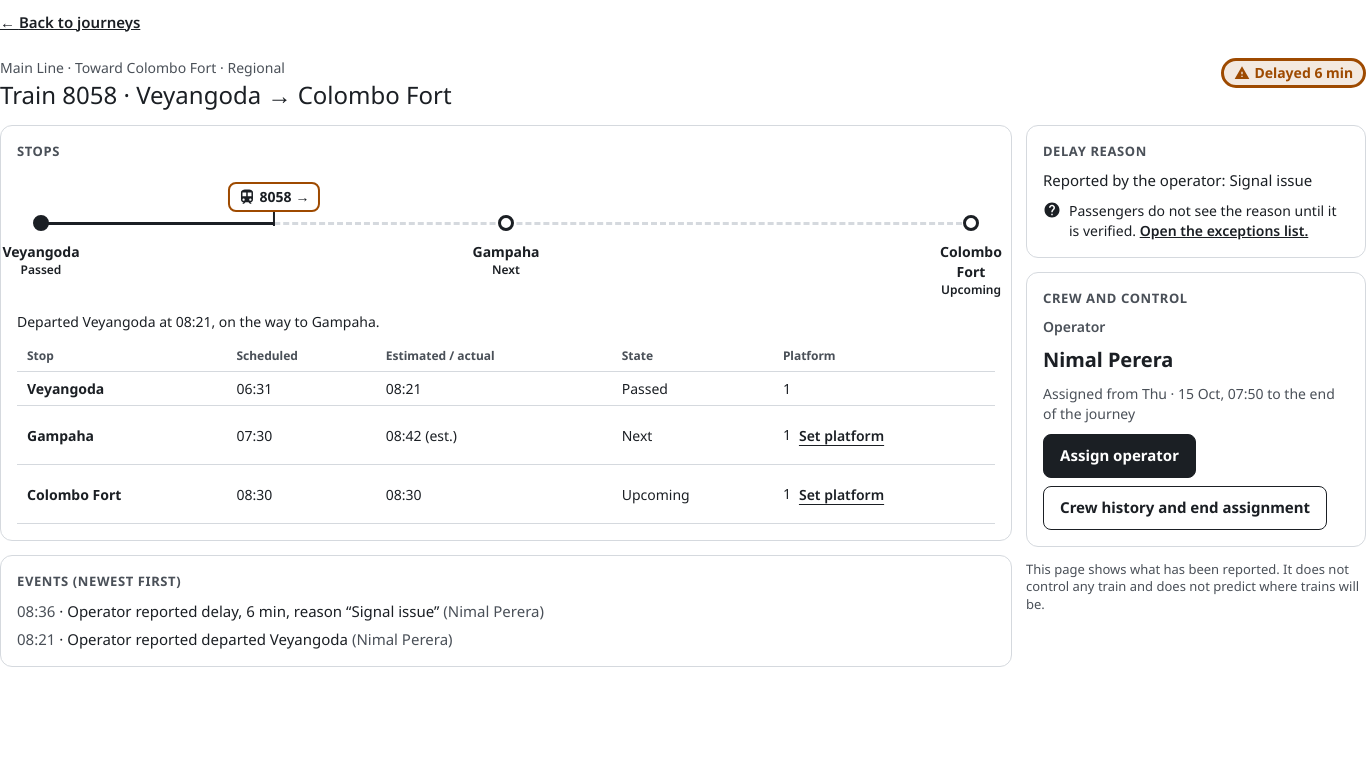
Test: Set the platform of a stop (spec 20, FR-57) › offers Set platform on stops the train has not left, and sends the chosen platform
Click the button with aria-label "Set the platform at Gampaha" at (842, 435), box [799,413,884,457]
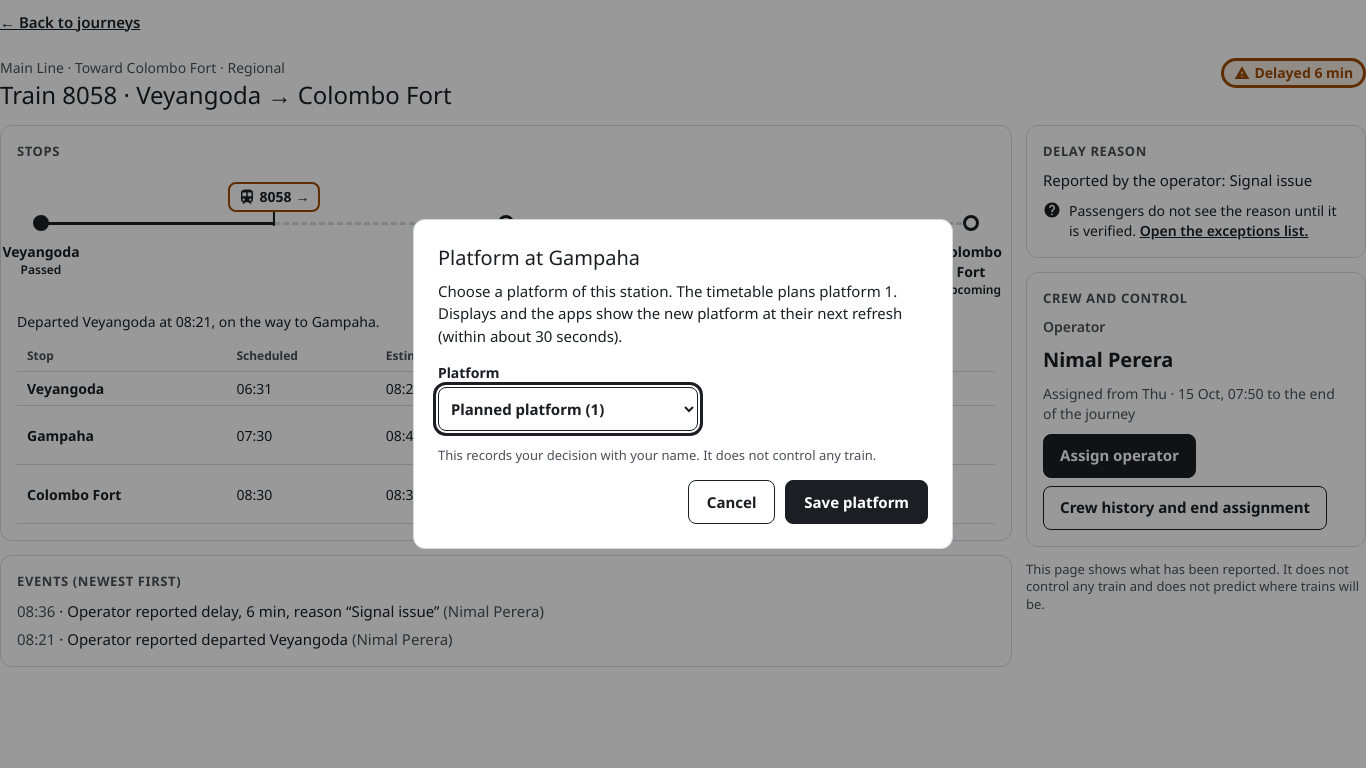
Select "Platform 2" in the dropdown labelled "Platform" at (568, 409), box [438,387,698,431]
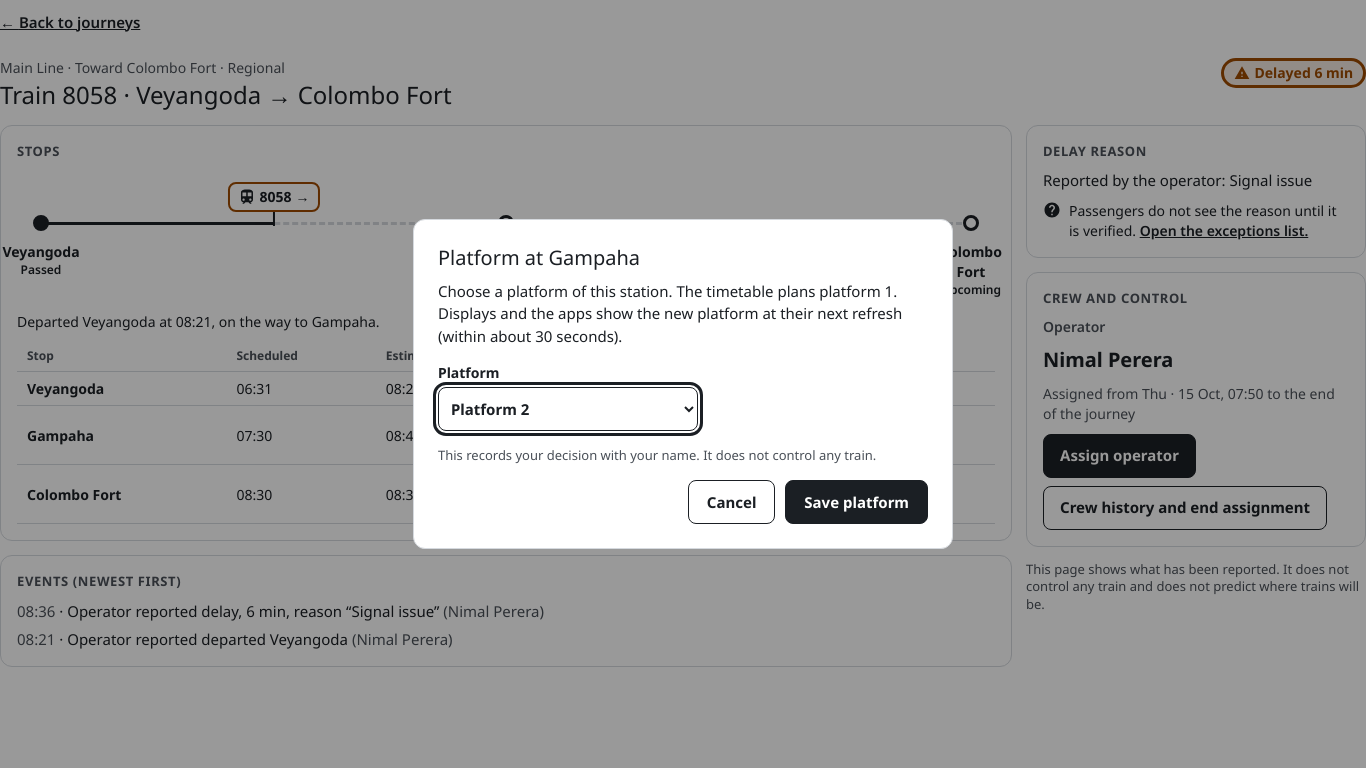
Click the button "Save platform" at (857, 502), box [785,480,928,524]
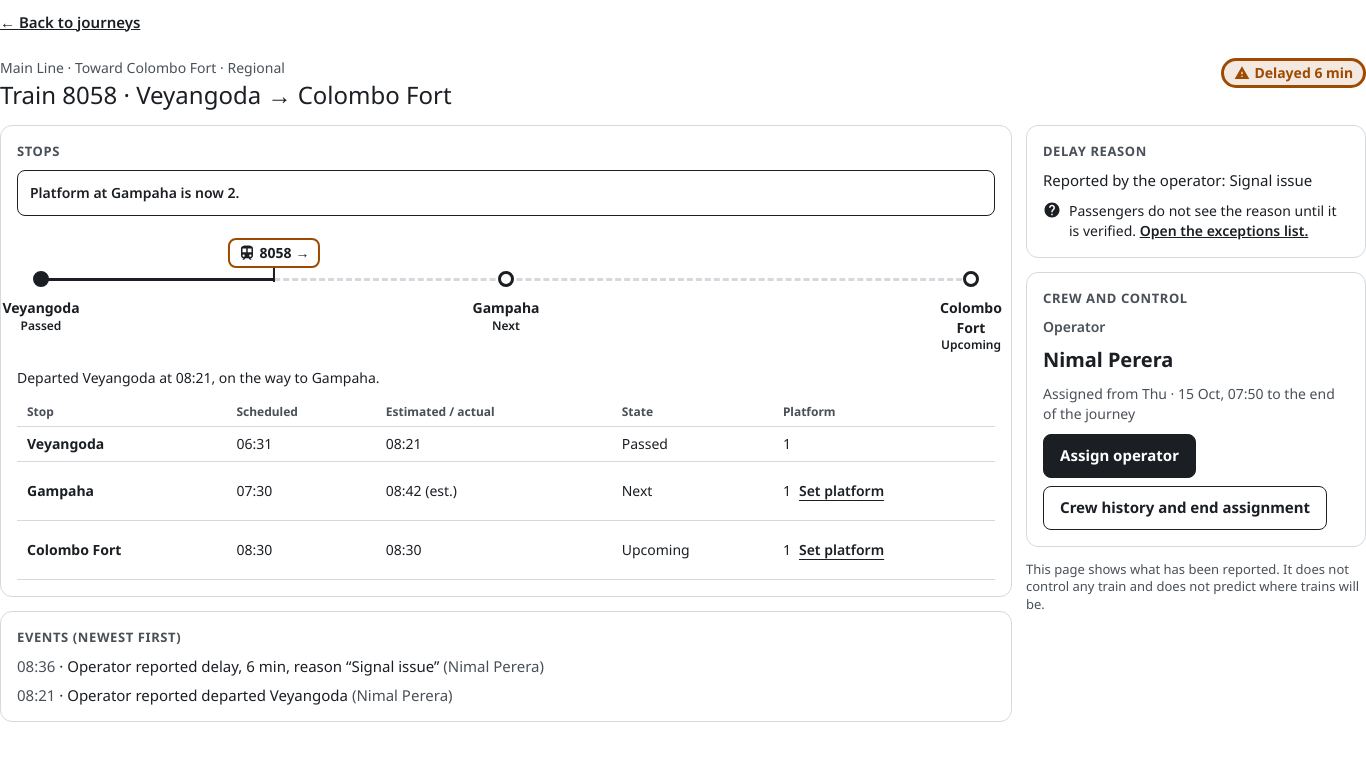
Check: the text "Platform at Gampaha is now 2." is shown, box [17,170,995,216]
